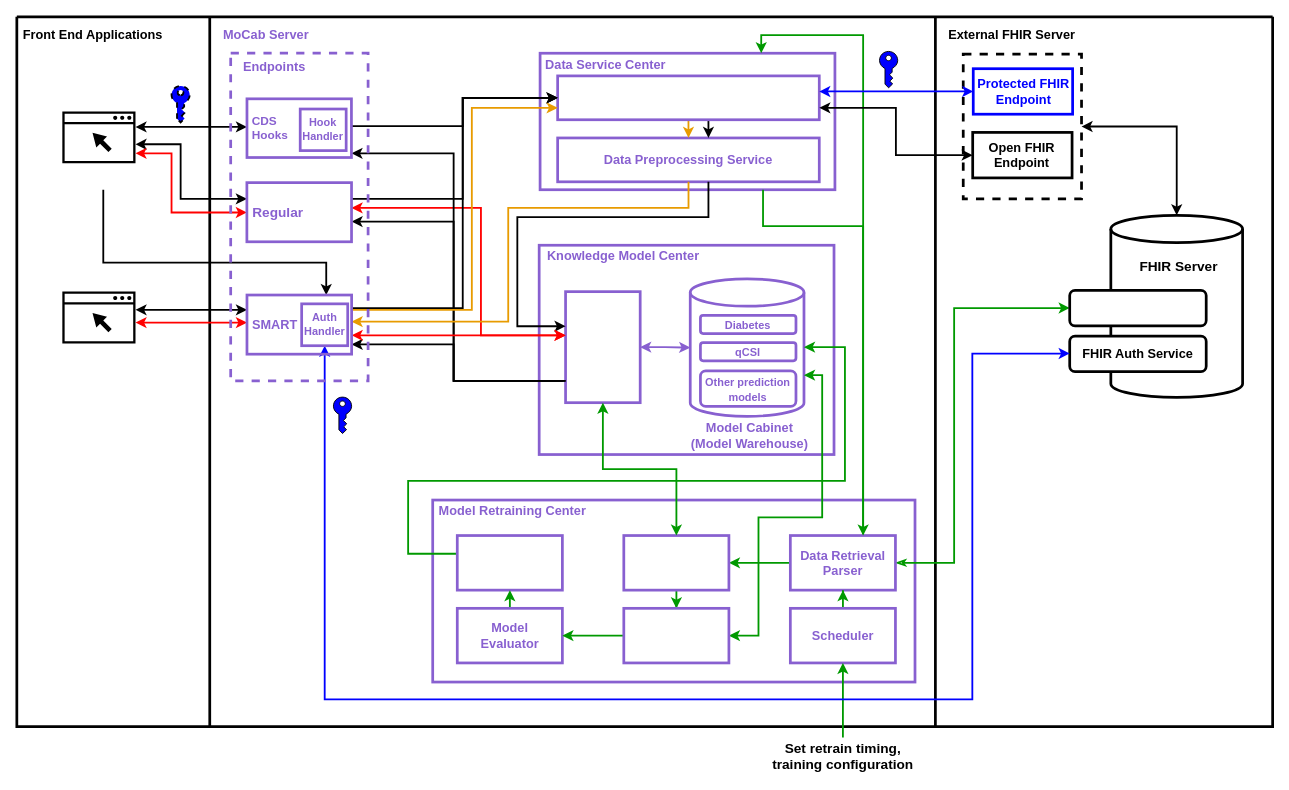
Some shapes in this 1289 by 790 pixel diagram are drawn without their labels. The shapes that lost their labels are listed below. From the top down, each one's centre as x and y in pixels, then its label:
point 688,97: Data Retrieving Service
point 98,137: EMR Client
point 98,317: SMART APPs MoCab SMART App
point 1137,307: FHIR Bulk Service
point 602,347: Prediction Adapter
point 509,562: Model Register
point 676,562: Data Transformation Bundler
point 676,635: Model Trainer
